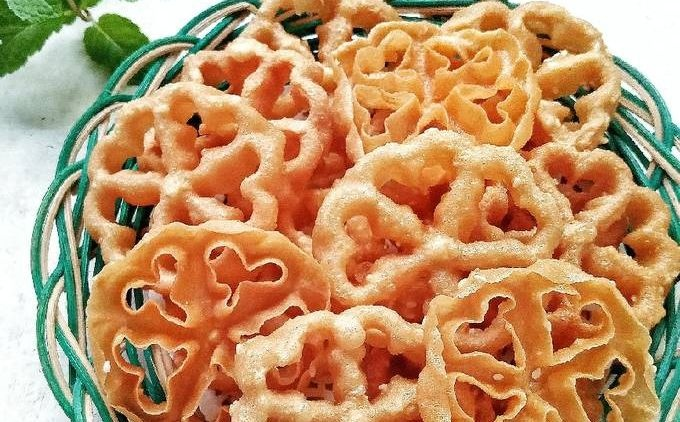kembang_goyang: (309, 130, 538, 336)
